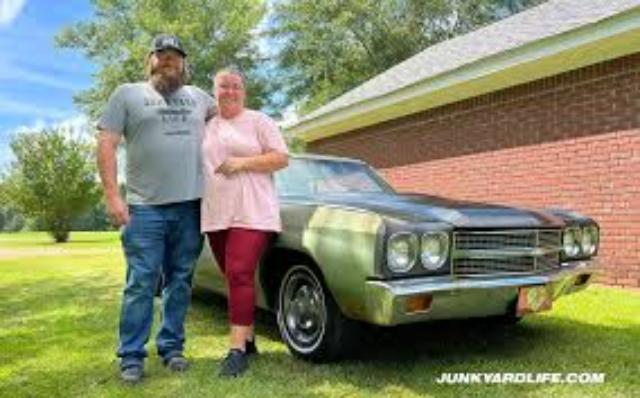chevelle-1972: (250, 153, 597, 361)
